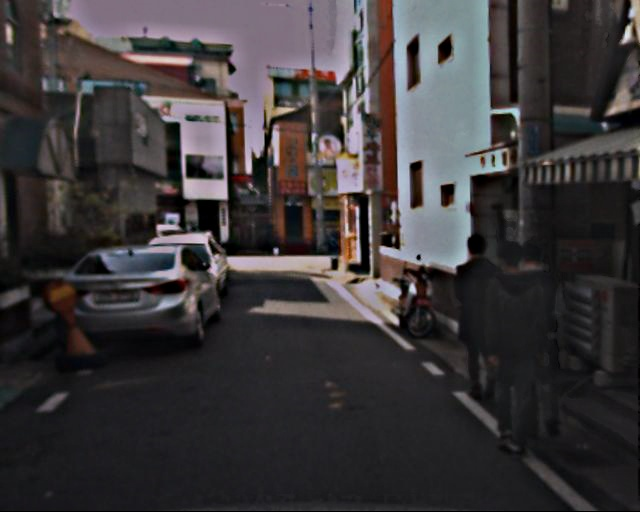person: (468, 241, 556, 455), (500, 243, 577, 431), (443, 234, 511, 401)
